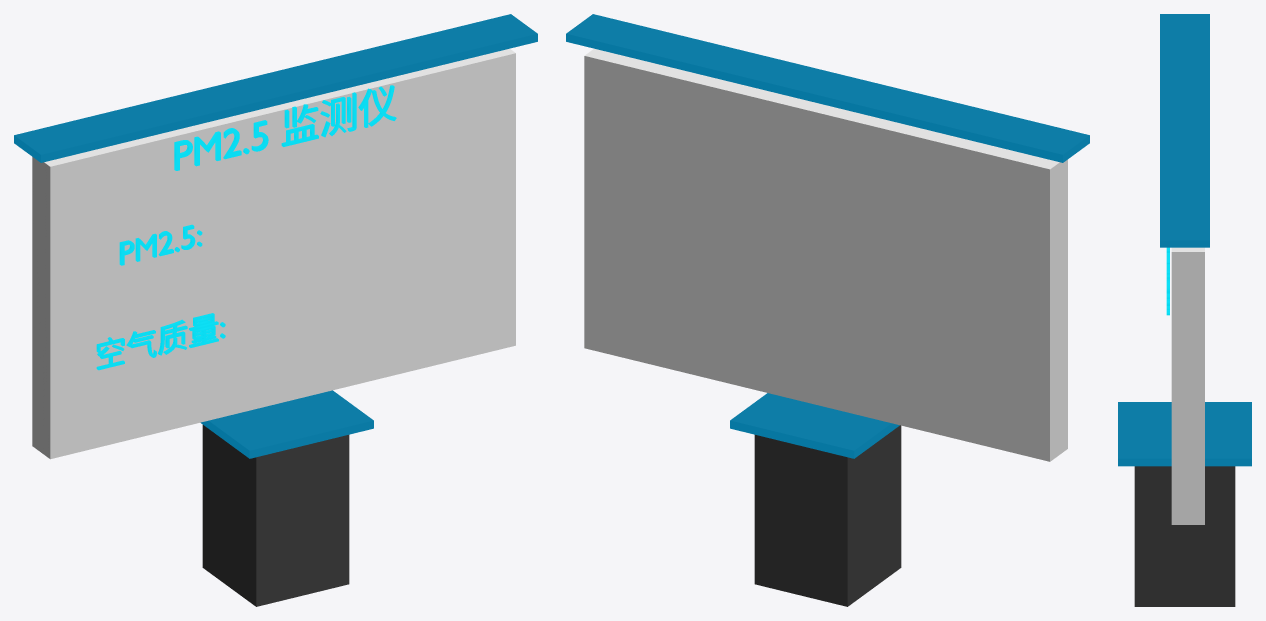
The model's file is PM25_Monitor.glb.
The picture shows the model from 3 angles, left to right: view 1: azimuth 30°, elevation 25°; view 2: azimuth 150°, elevation 25°; view 3: azimuth 270°, elevation 25°; orthographic projection. The views are drawn at different scales.
Visible parts, largest first — view 1: DisplayPanel, Base, TopAccent, Time_Value, PM25_Value, AQI_Value, BottomAccent, Title, AQI_Label, PM25_Label; view 2: DisplayPanel, Base, TopAccent, BottomAccent; view 3: Base, TopAccent, DisplayPanel, BottomAccent, AQI_Label.
Part boxes in pixels (bbox=[...]): DisplayPanel: bbox=[32, 48, 515, 459]; Base: bbox=[202, 425, 349, 606]; TopAccent: bbox=[14, 14, 537, 162]; Time_Value: bbox=[131, 310, 441, 434]; PM25_Value: bbox=[349, 148, 472, 243]; AQI_Value: bbox=[349, 246, 472, 332]; BottomAccent: bbox=[200, 390, 373, 458]; Title: bbox=[174, 85, 396, 170]; AQI_Label: bbox=[96, 313, 225, 370]; PM25_Label: bbox=[119, 224, 202, 265]; DisplayPanel: bbox=[584, 48, 1067, 461]; Base: bbox=[754, 425, 901, 606]; TopAccent: bbox=[566, 14, 1089, 162]; BottomAccent: bbox=[730, 393, 899, 458]; Base: bbox=[1134, 466, 1235, 606]; TopAccent: bbox=[1160, 14, 1209, 247]; DisplayPanel: bbox=[1171, 247, 1204, 524]; BottomAccent: bbox=[1118, 402, 1251, 466]; AQI_Label: bbox=[1166, 247, 1169, 315].
Bounding box in the file's own units: 3.2 × 3.03 × 0.8.
